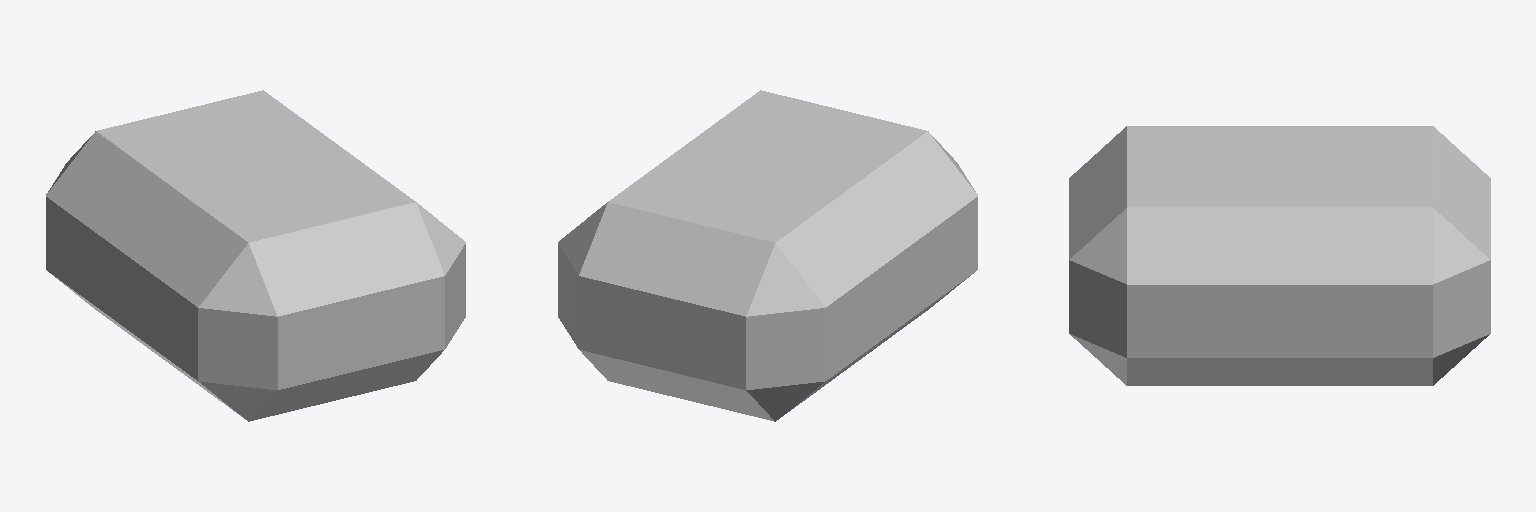
The model's file is chamfer.obj.
3 views of the same model, side by side, from view 1: azimuth 30°, elevation 25°; view 2: azimuth 150°, elevation 25°; view 3: azimuth 270°, elevation 25° (orthographic).
Visible parts, largest first — view 1: ChamferBox01; view 2: ChamferBox01; view 3: ChamferBox01.
Boxes of the visible parts, x1,y1,x2,y2 form: ChamferBox01: [46, 90, 465, 421]; ChamferBox01: [558, 90, 977, 421]; ChamferBox01: [1069, 126, 1490, 385].
Size of the model in its own units: 169 by 108 by 230.